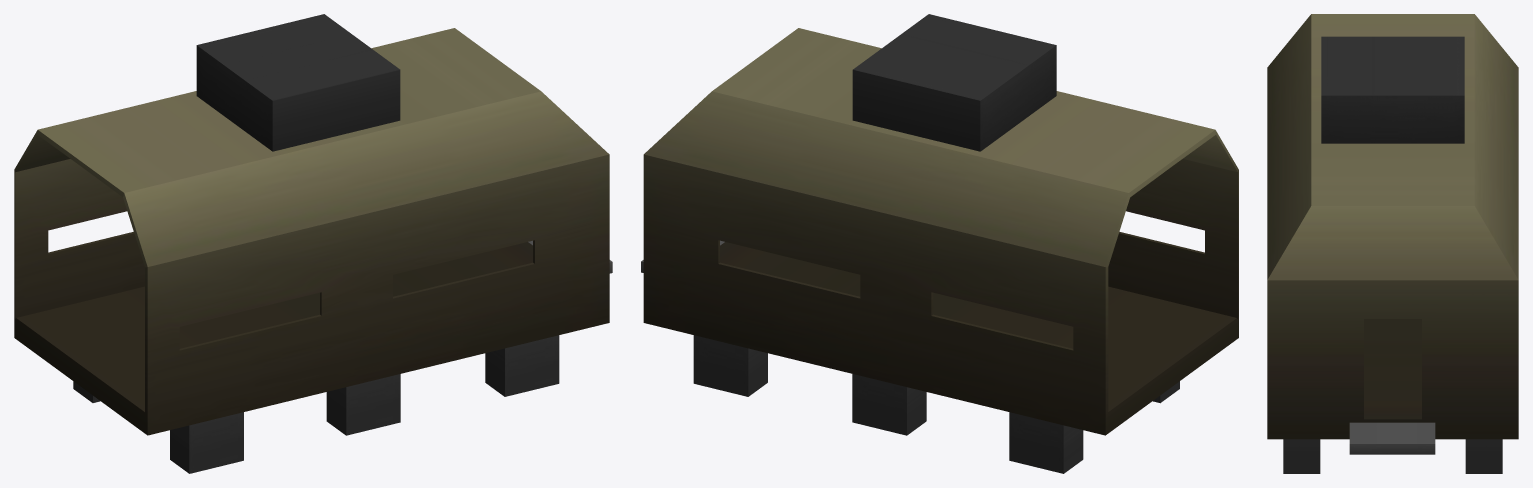
The model's file is train_half_light_gun_base_placeholder_v001.fbx.
3 views of the same model, side by side, from view 1: azimuth 30°, elevation 25°; view 2: azimuth 150°, elevation 25°; view 3: azimuth 270°, elevation 25° (orthographic). The views are drawn at different scales.
Visible parts, largest first — view 1: body; view 2: body; view 3: body, übergang.
Part boxes in pixels (x1,y1,x2,y2): body: [14, 14, 609, 473]; body: [643, 14, 1238, 473]; body: [1267, 14, 1518, 473]; übergang: [1349, 422, 1435, 454].
Size of the model in its own units: 300 by 414 by 662.
